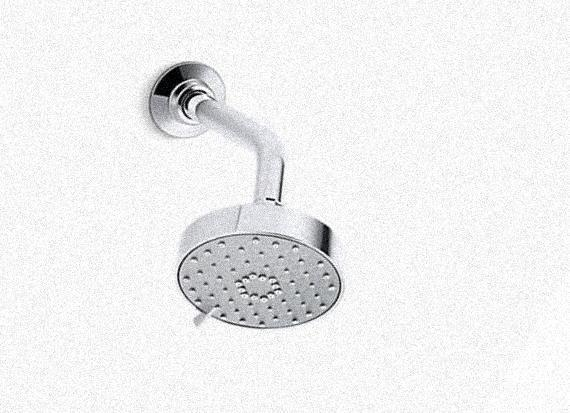Ducha: (131, 32, 347, 355)
